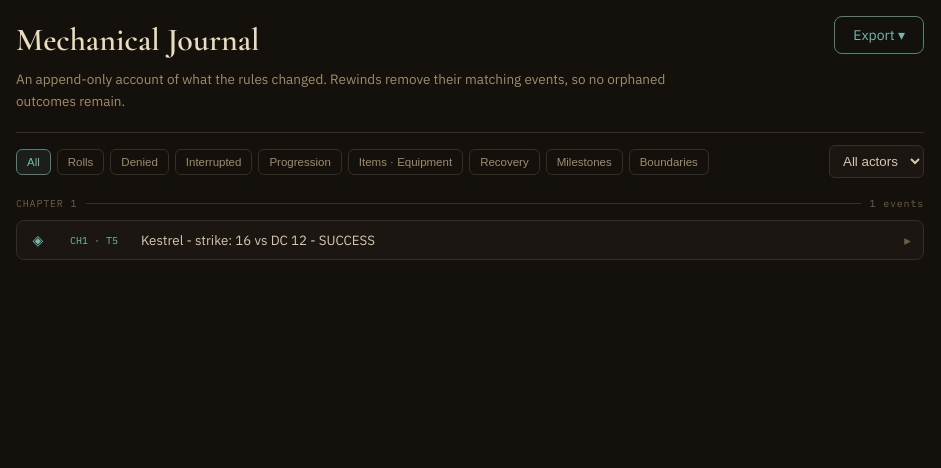
Test: Mechanical Journal › renders dice as readable numbers and never dumps the raw payload
Click the button "◈ CH1 · T5 Kestrel - strike: 16 vs DC 12 - SUCCESS ▸" at (258, 240), box [17,221,923,259]
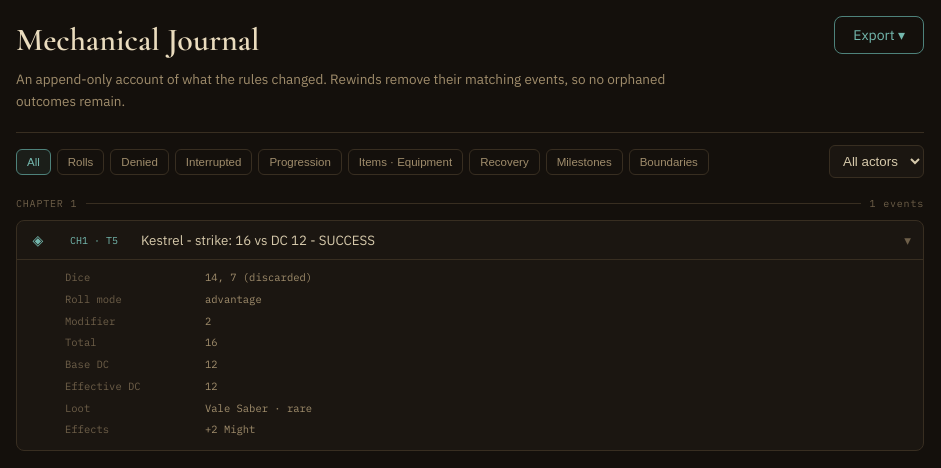
Expected: the text "14, 7 (discarded)" is shown, [205,270,312,284]
Expected: the text "+2 Might" is shown, [205,422,255,436]
